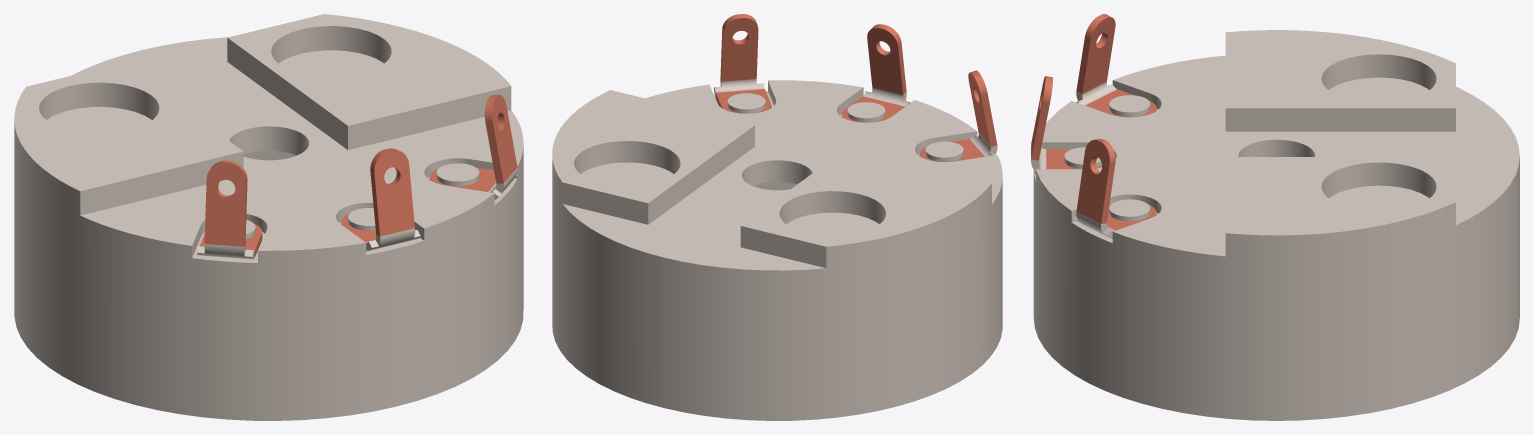
3 views of the same model, side by side, from view 1: azimuth 30°, elevation 25°; view 2: azimuth 150°, elevation 25°; view 3: azimuth 270°, elevation 25° (orthographic). The views are drawn at different scales.
Size of the model in its own units: 9.5 by 5.17 by 9.55.
